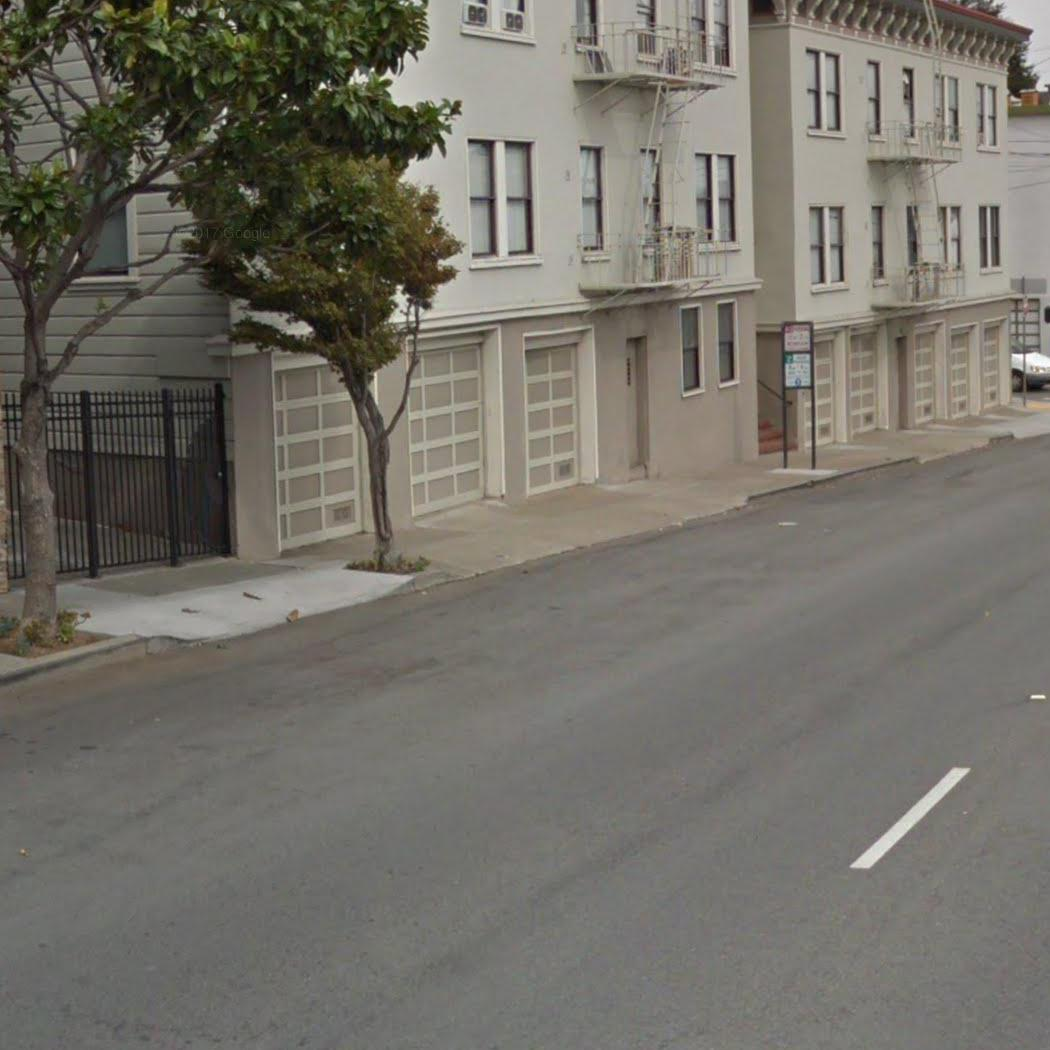2 Hour Parking: (781, 353, 814, 390)
No Parking: (781, 321, 814, 355)
